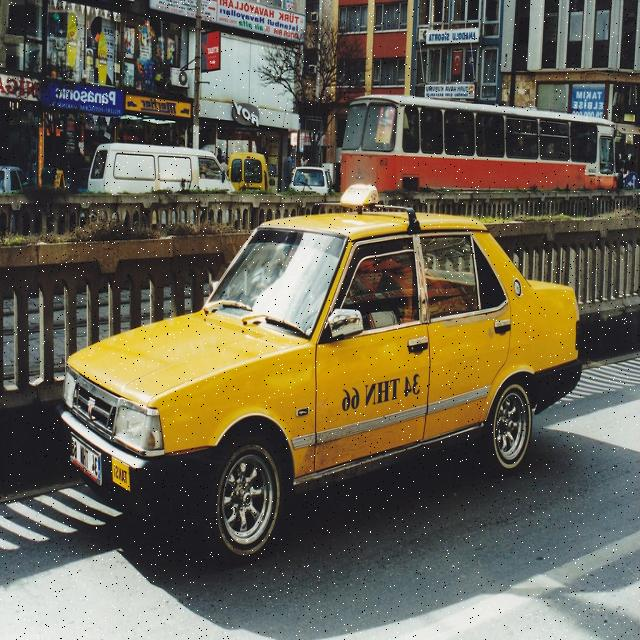car: (59, 188, 580, 555), (87, 143, 234, 193), (227, 153, 269, 191), (290, 166, 332, 193), (0, 166, 27, 192)
